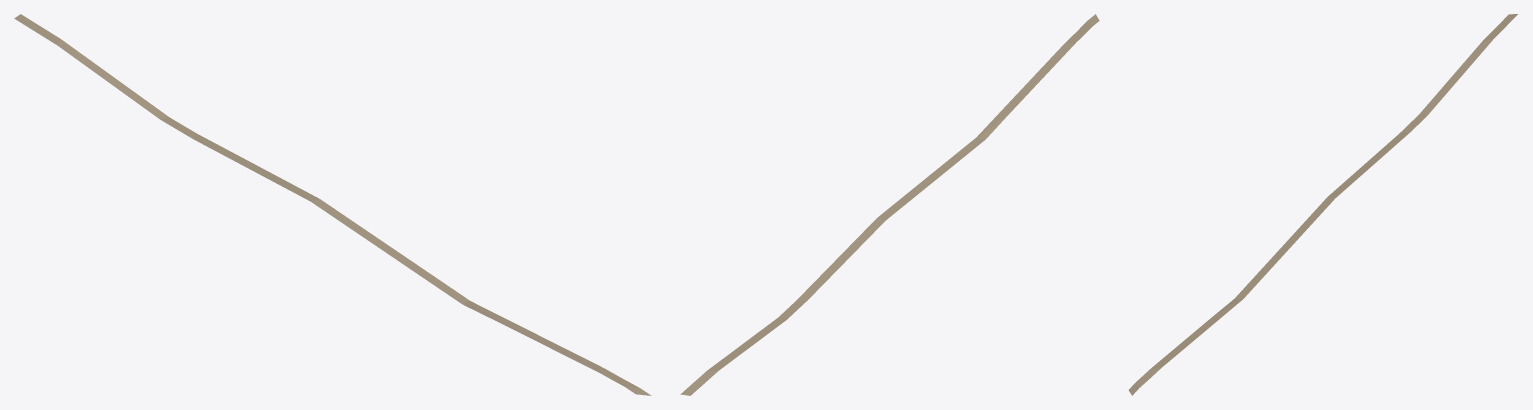
The model's file is farm_-38_-28_track.glb.
3 renders of one model, left to right at view 1: azimuth 30°, elevation 25°; view 2: azimuth 150°, elevation 25°; view 3: azimuth 330°, elevation 25°, orthographic. The views are drawn at different scales.
Visible parts, largest first — view 1: geometry_0; view 2: geometry_0; view 3: geometry_0.
Part boxes in pixels (x1,y1,x2,y2): geometry_0: (14, 14, 651, 395); geometry_0: (680, 14, 1099, 395); geometry_0: (1128, 14, 1517, 395).
Size of the model in its own units: 38.9 by 9.27 by 336.
